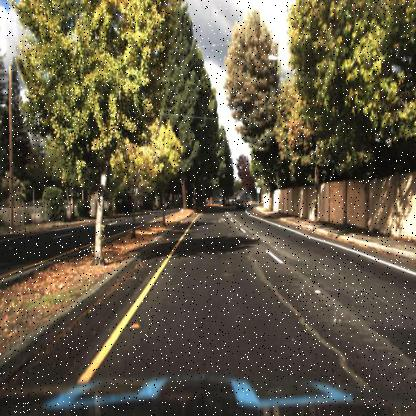car: (232, 194, 248, 212)
